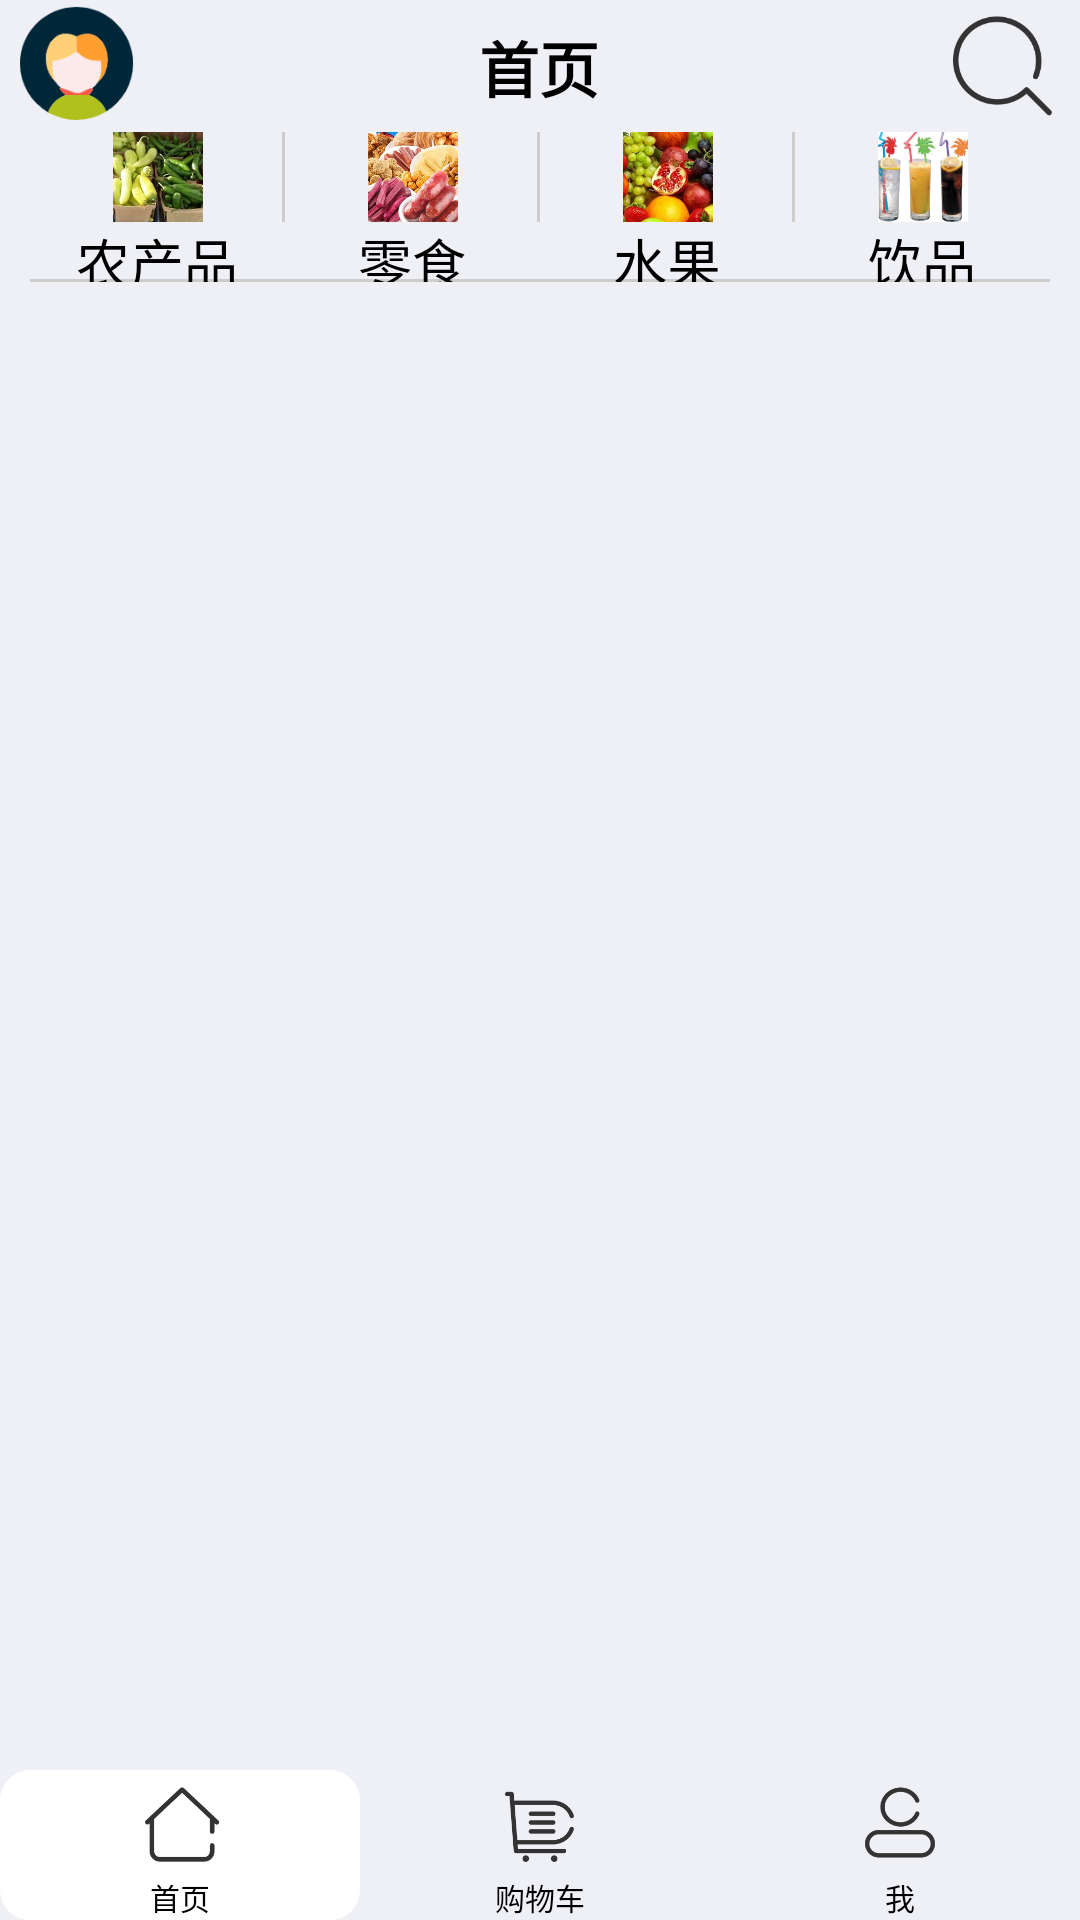

Named icons in this screenshot (1080px x 1920px) and their bounding boxes, (x1, y1, x2, y2):
search: (953, 16, 1052, 116)
